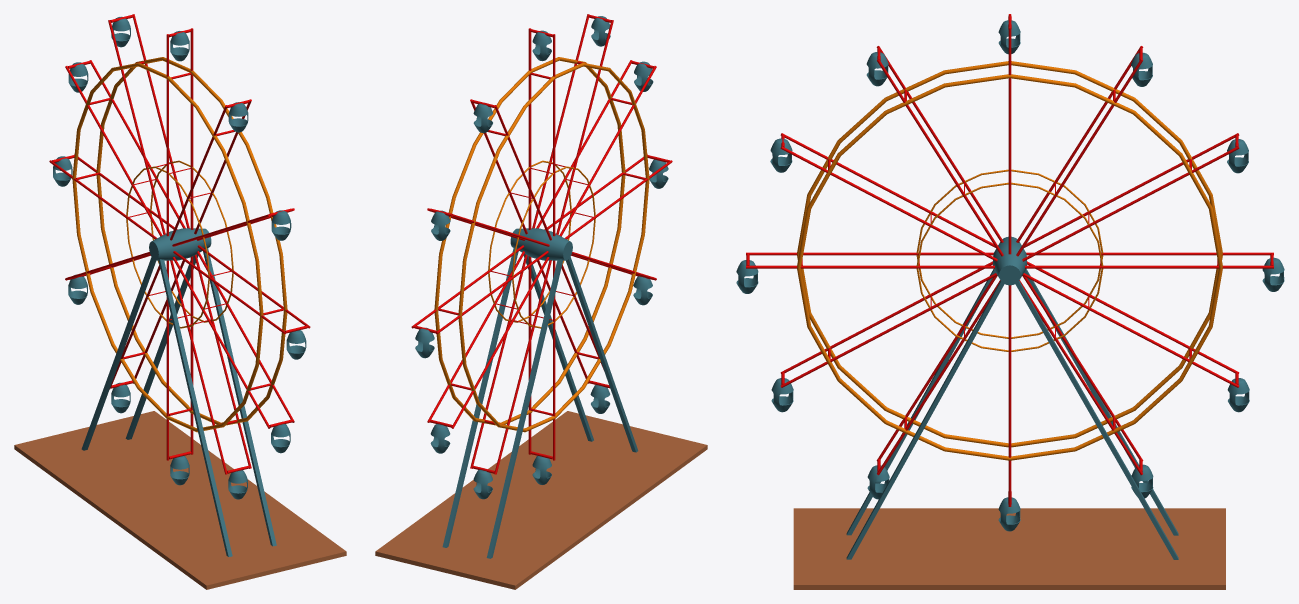
File: ferris wheel.fbx
3 views of the same model, side by side, from view 1: azimuth 30°, elevation 25°; view 2: azimuth 150°, elevation 25°; view 3: azimuth 270°, elevation 25° (orthographic). The views are drawn at different scales.
Visible parts, largest first — view 1: base, pTorus2, pTorus1, pCube4, pCube1, centre, pCube3, pCube2, pTorus4, pCylinder37, pCylinder59, pCylinder53 (+20 smaller); view 2: base, pTorus2, pTorus1, pCube3, pCube2, centre, pCube4, pCube1, pTorus4, pCylinder37, pCylinder49, pCylinder55 (+20 smaller); view 3: base, pTorus1, pTorus2, pCube2, pCube1, pTorus3, pTorus4, centre, pCube3, pCube4, pCylinder40, pCylinder46 (+20 smaller).
Part boxes in pixels (x1=…): base: x1=14, y1=411, x2=346, y2=589; pTorus2: x1=72, y1=62, x2=263, y2=432; pTorus1: x1=96, y1=57, x2=287, y2=425; pCube4: x1=158, y1=259, x2=232, y2=556; pCube1: x1=203, y1=248, x2=276, y2=546; centre: x1=149, y1=228, x2=211, y2=260; pCube3: x1=81, y1=257, x2=156, y2=450; pCube2: x1=125, y1=254, x2=198, y2=439; pTorus4: x1=126, y1=166, x2=209, y2=328; pCylinder37: x1=190, y1=28, x2=193, y2=229; pCylinder59: x1=108, y1=20, x2=165, y2=235; pCylinder53: x1=170, y1=260, x2=227, y2=474; base: x1=375, y1=411, x2=707, y2=589; pTorus2: x1=458, y1=62, x2=649, y2=432; pTorus1: x1=434, y1=57, x2=625, y2=425; pCube3: x1=486, y1=259, x2=563, y2=558; pCube2: x1=442, y1=248, x2=518, y2=547; centre: x1=510, y1=228, x2=572, y2=260; pCube4: x1=566, y1=257, x2=638, y2=452; pCube1: x1=523, y1=254, x2=593, y2=441; pTorus4: x1=512, y1=166, x2=595, y2=328; pCylinder37: x1=528, y1=28, x2=531, y2=229; pCylinder49: x1=556, y1=20, x2=613, y2=235; pCylinder55: x1=494, y1=260, x2=551, y2=474; base: x1=793, y1=508, x2=1225, y2=589; pTorus1: x1=797, y1=74, x2=1222, y2=460; pTorus2: x1=797, y1=61, x2=1222, y2=447; pCube2: x1=1015, y1=281, x2=1178, y2=559; pCube1: x1=846, y1=281, x2=1004, y2=559; pTorus3: x1=916, y1=182, x2=1103, y2=351; pTorus4: x1=916, y1=169, x2=1103, y2=338; centre: x1=993, y1=236, x2=1026, y2=285; pCube3: x1=1024, y1=269, x2=1178, y2=535; pCube4: x1=846, y1=269, x2=995, y2=535; pCylinder40: x1=746, y1=265, x2=994, y2=268; pCylinder46: x1=1025, y1=265, x2=1273, y2=268.
Size of the model in its own units: 5.53 by 17.76 by 16.65.
